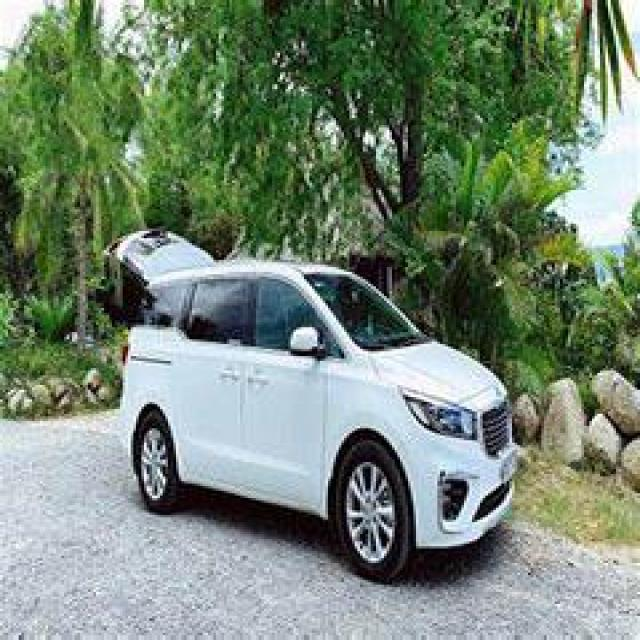car: (68, 189, 564, 610)
